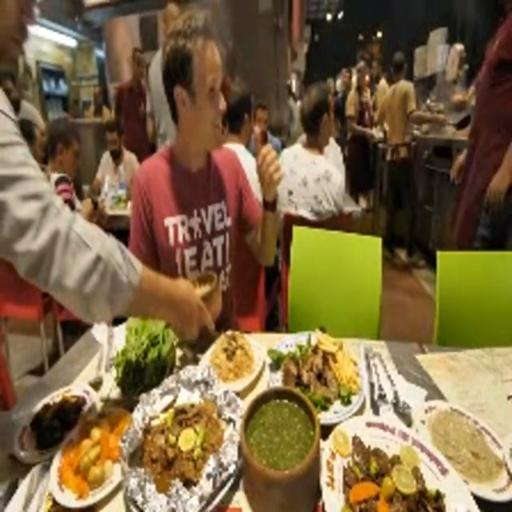nao-violencia: (0, 0, 296, 365)
